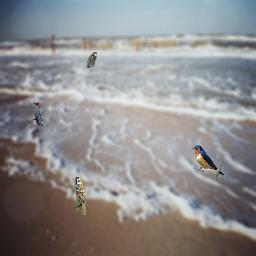Cuckoo: (87, 52, 97, 68)
Sparrow: (75, 175, 86, 215)
Swallow: (192, 145, 232, 180)
Woodpecker: (33, 102, 43, 127)
